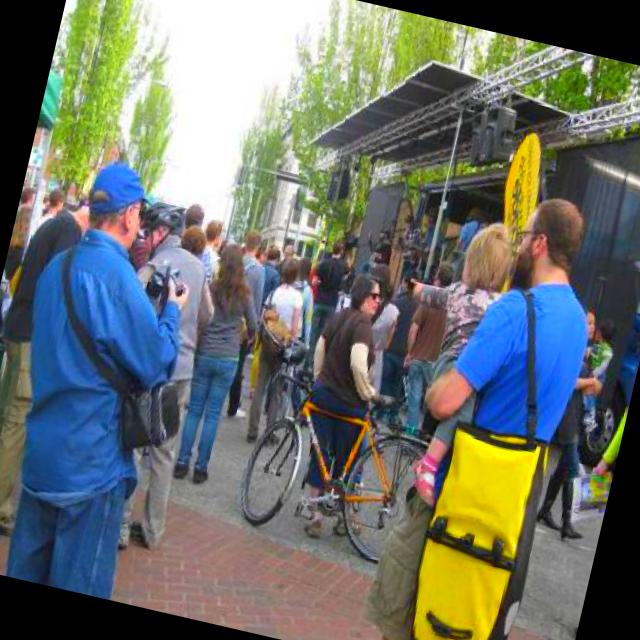Person: (0, 99, 640, 504), (351, 173, 618, 640), (0, 150, 215, 594), (74, 195, 240, 550), (362, 204, 520, 512), (276, 266, 422, 546), (0, 184, 94, 536), (162, 236, 272, 490), (530, 304, 636, 542), (230, 246, 322, 444), (293, 232, 360, 374), (568, 315, 623, 437), (280, 250, 332, 350), (252, 240, 291, 321)
